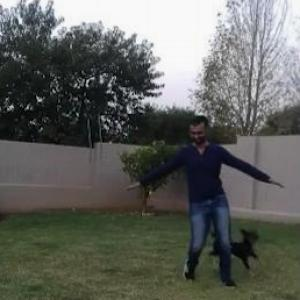land: (115, 110, 280, 293)
